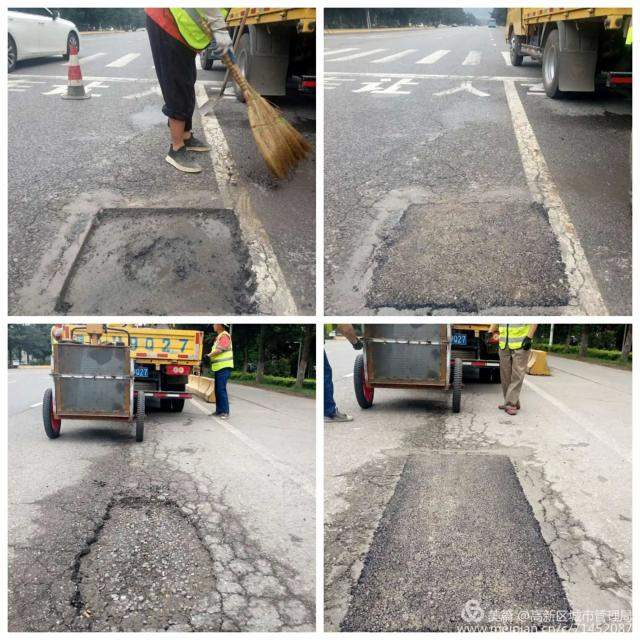Pothole: (64, 492, 230, 634), (109, 227, 236, 302)
